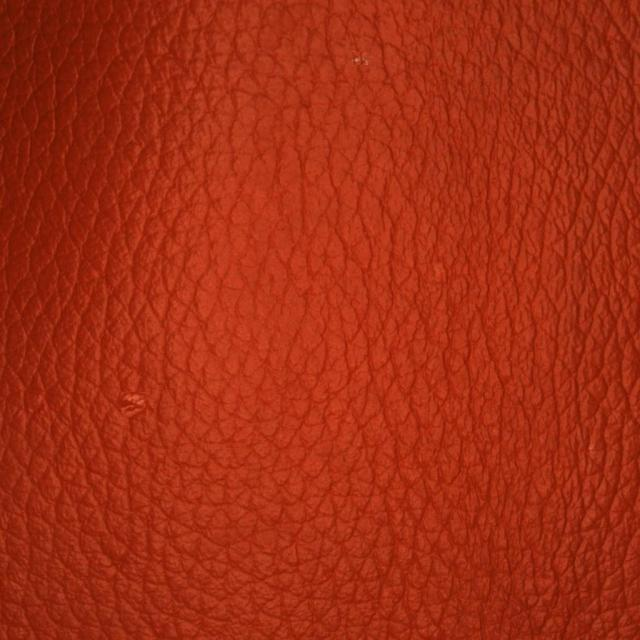Bacterial Injury: (65, 317, 206, 458)
